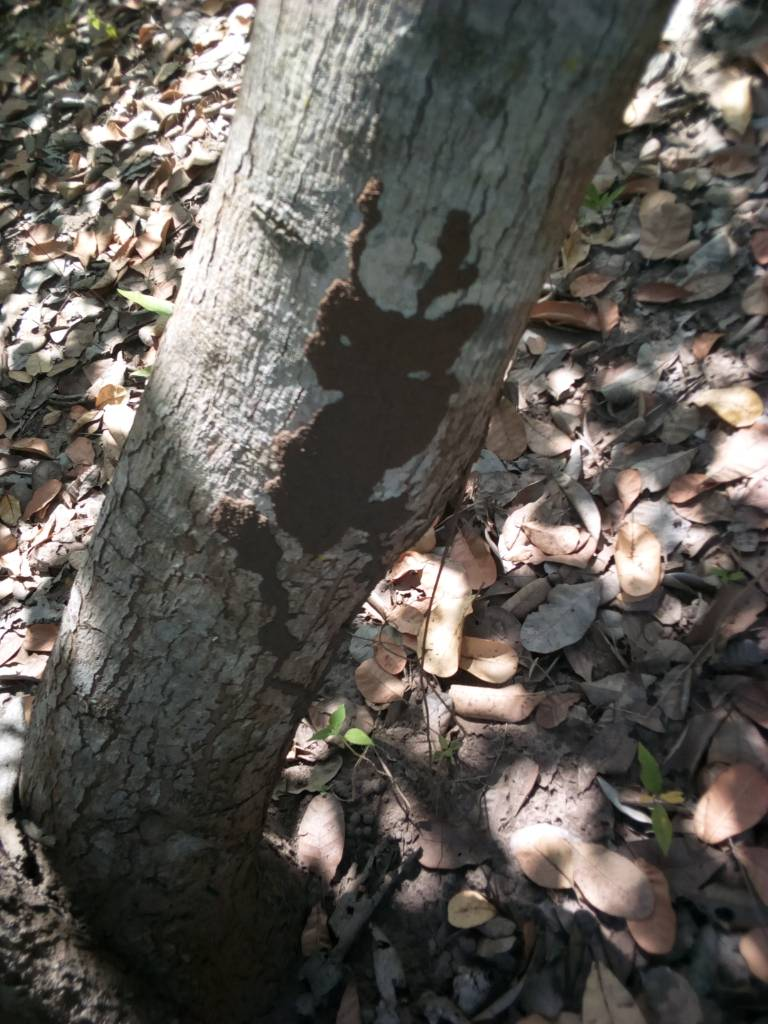Termites: (222, 194, 491, 639)
